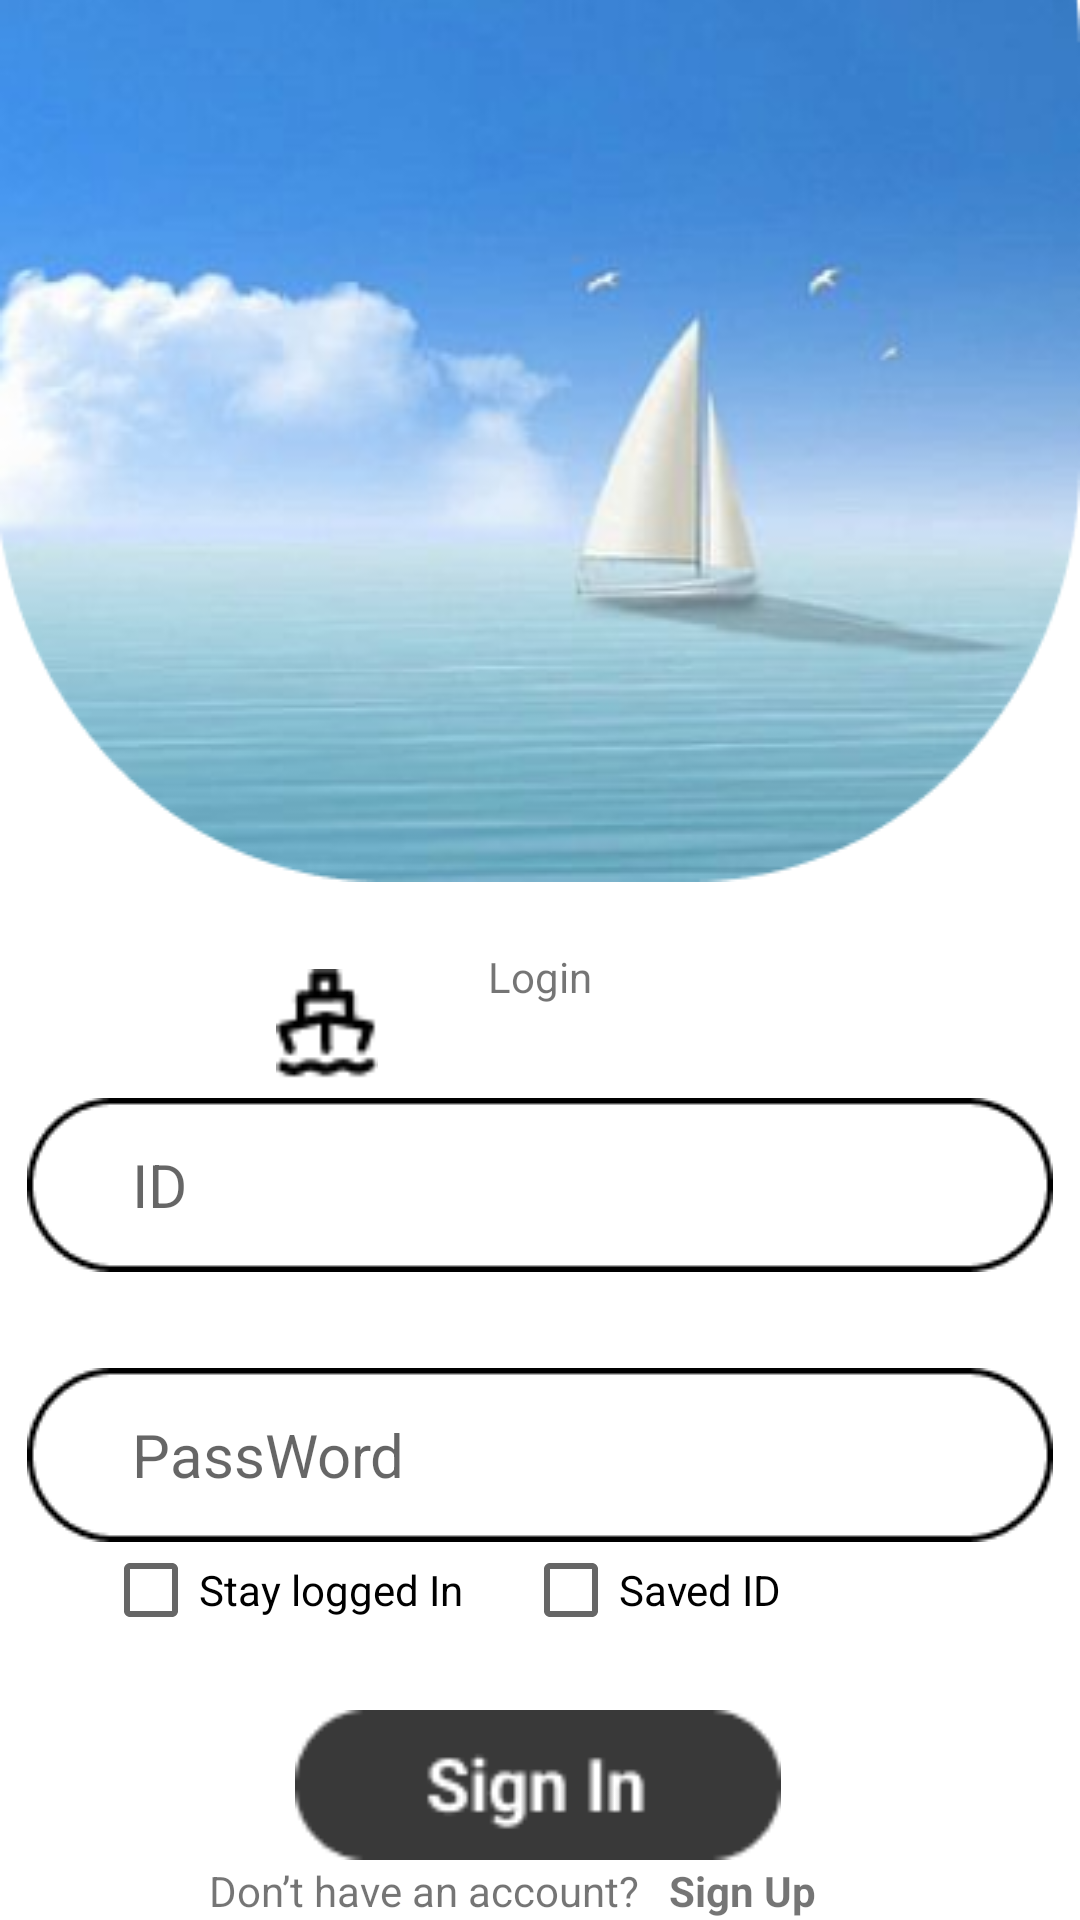

Icons on this 1080x1920 Android screen, each with its box as {"x1": x1, "y1": y1, "x2": x2, "y2": y2}:
iconship: {"x1": 276, "y1": 969, "x2": 378, "y2": 1077}
